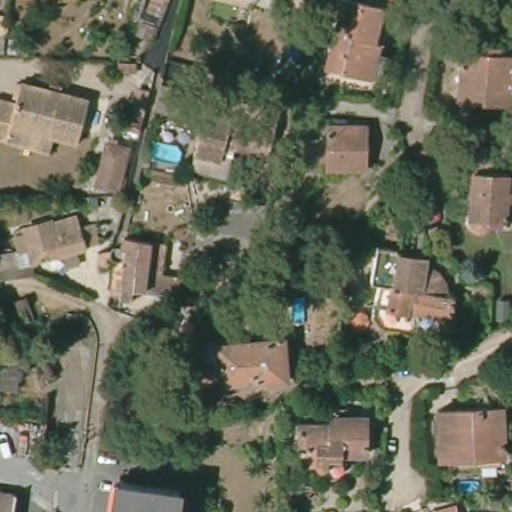pool: (148, 137, 185, 170), (286, 291, 312, 329), (452, 477, 480, 493)
